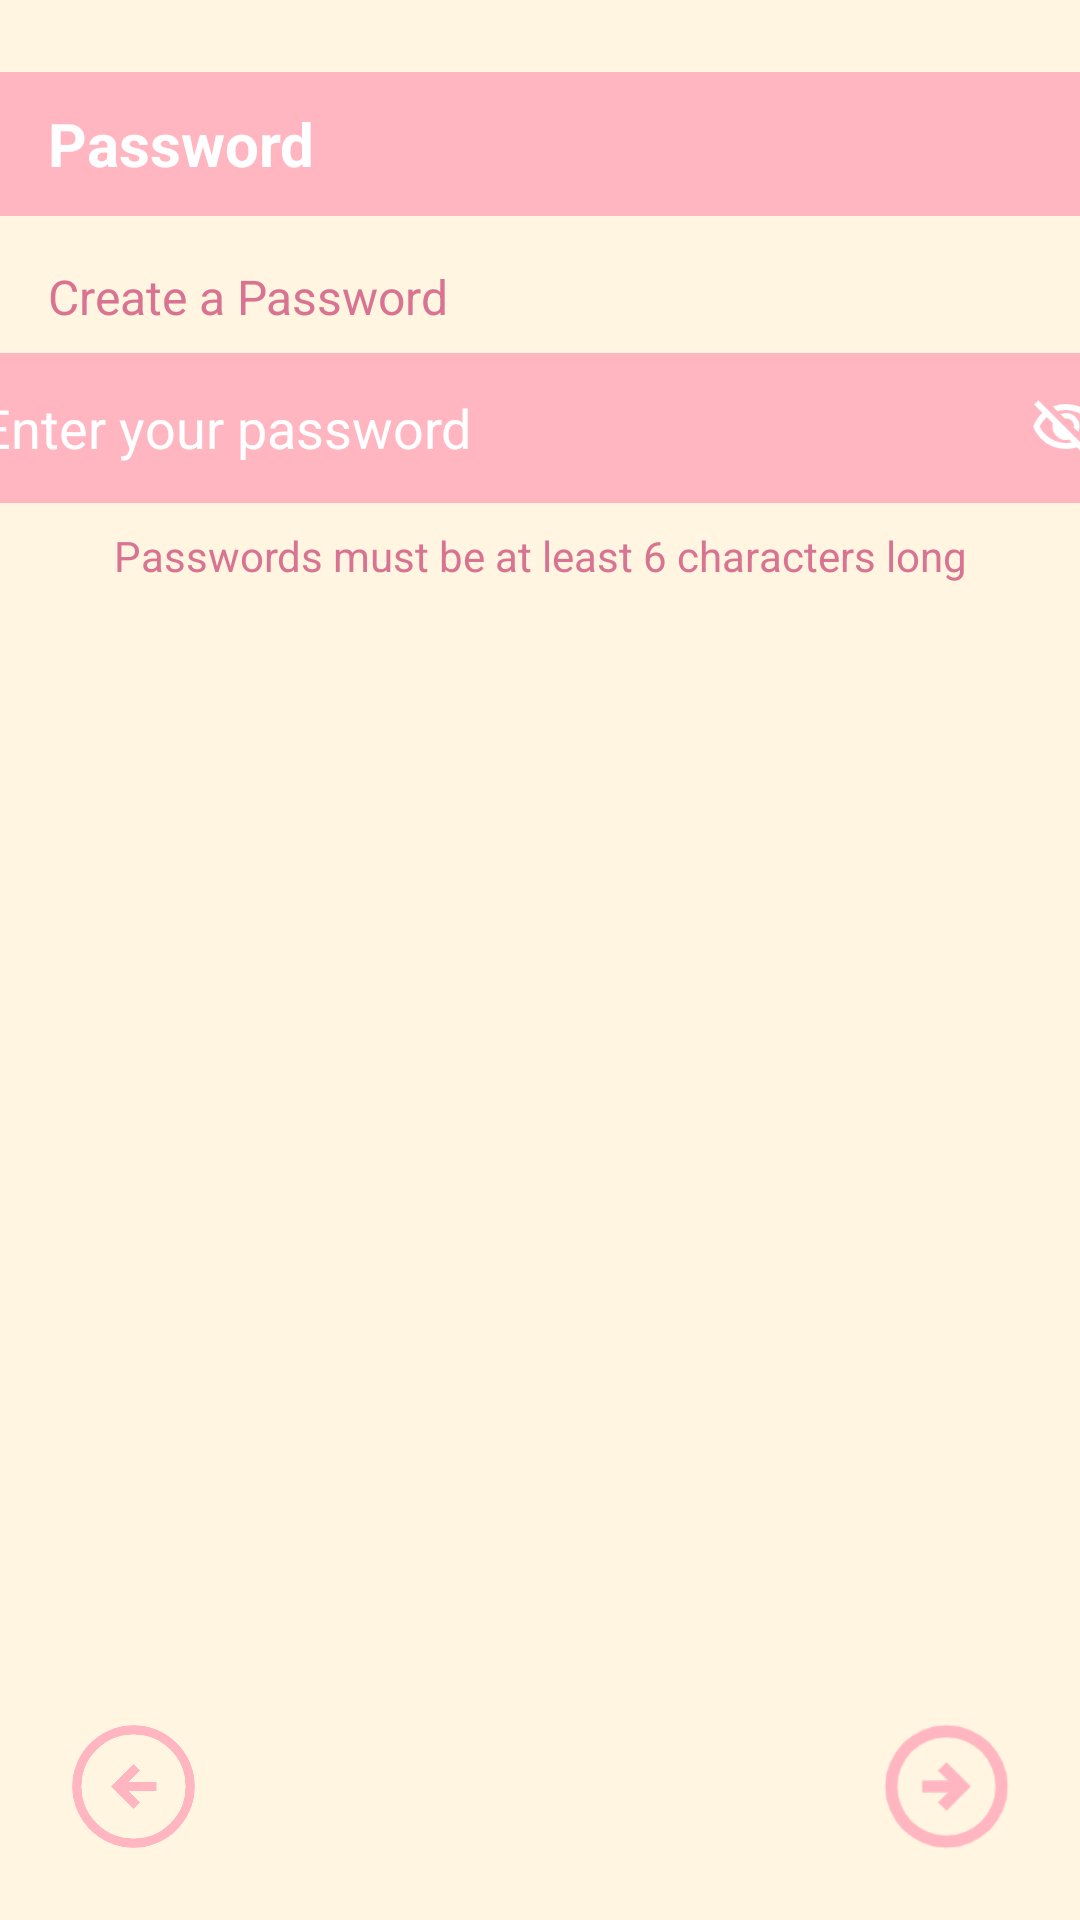

Icons on this 1080*1920 Android screen, each with its box as (x1, y1, x2, y2):
Back: (72, 1725, 195, 1848)
Next: (885, 1725, 1008, 1848)
